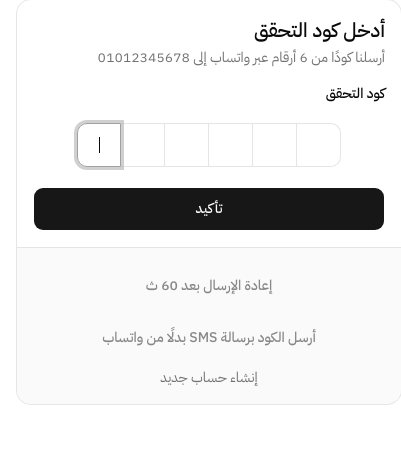
Test: OtpVerifyForm › shows the server's message for a wrong code
The width and height of the screenshot is (401, 462).
Type "111111" into the field labelled "كود التحقق" at (229, 145), box [77,123,381,167]
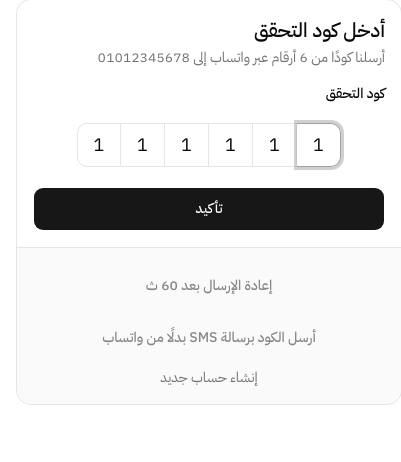
Click the button "تأكيد" at (209, 209), box [33,187,385,231]
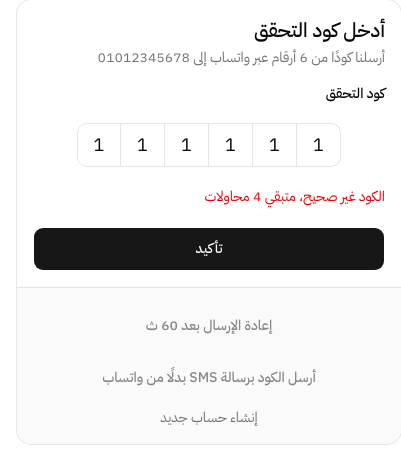
Check: the message reads "الكود غير صحيح، متبقي 4 محاولات", box [204,186,385,207]
